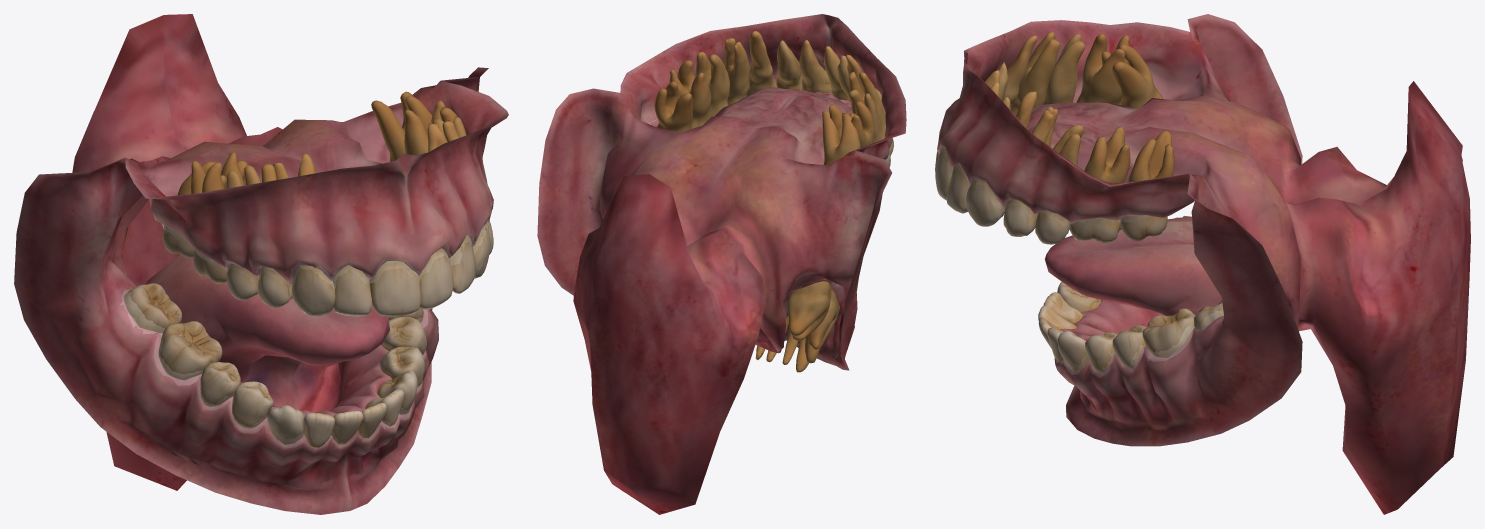
File: human_mouth_optimized.glb
The picture shows the model from 3 angles, left to right: view 1: azimuth 30°, elevation 25°; view 2: azimuth 150°, elevation 25°; view 3: azimuth 270°, elevation 25°; orthographic projection. The views are drawn at different scales.
Parts seen in each view (by area): view 1: Object_4, Object_6, Object_8; view 2: Object_4, Object_6; view 3: Object_4, Object_6, Object_8.
Part boxes in pixels (bbox=[...]): Object_4: bbox=[14, 14, 508, 514]; Object_6: bbox=[124, 91, 493, 447]; Object_8: bbox=[121, 219, 488, 448]; Object_4: bbox=[537, 14, 906, 514]; Object_6: bbox=[654, 31, 893, 372]; Object_4: bbox=[937, 14, 1470, 514]; Object_6: bbox=[935, 32, 1223, 372]; Object_8: bbox=[938, 91, 1223, 377].
Bounding box in the file's own units: 0.2433 × 0.2663 × 0.2801.
3 materials, 2 textured.
